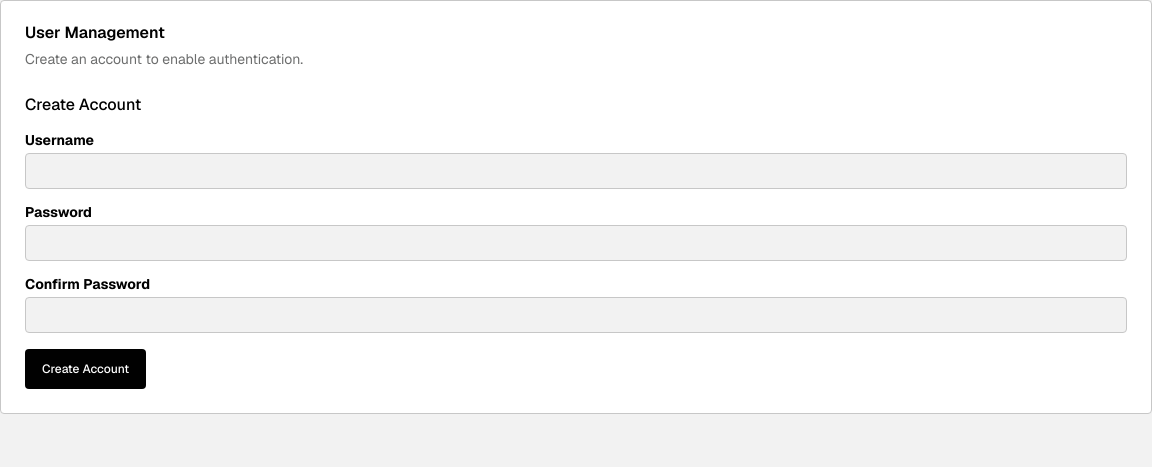
Test: UserManagementSection › no users (setup state) › shows validation error when passwords do not match
Type "admin" into the field labelled "Username" at (576, 171), box [25,153,1127,189]
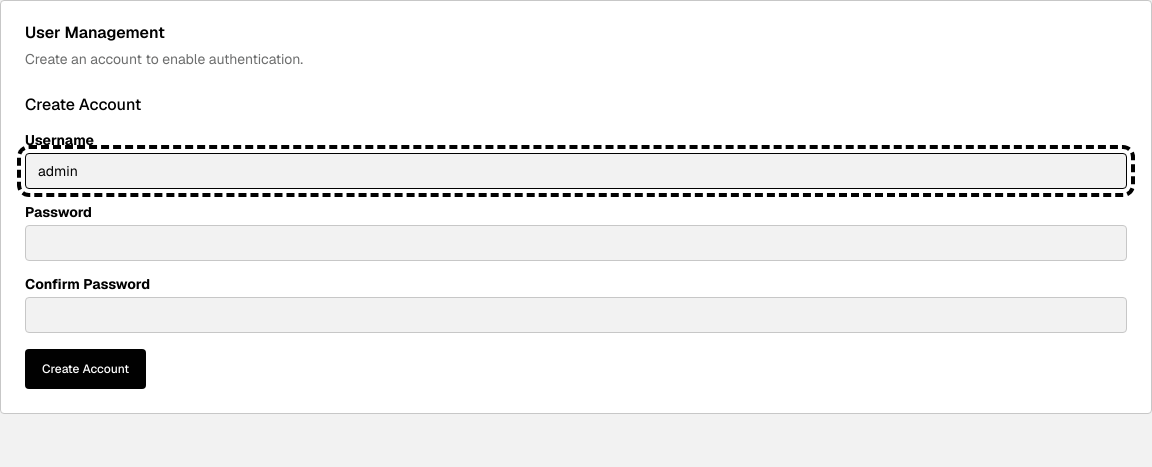
Type "password123" into the password field labelled "Password" at (576, 243), box [25,225,1127,261]
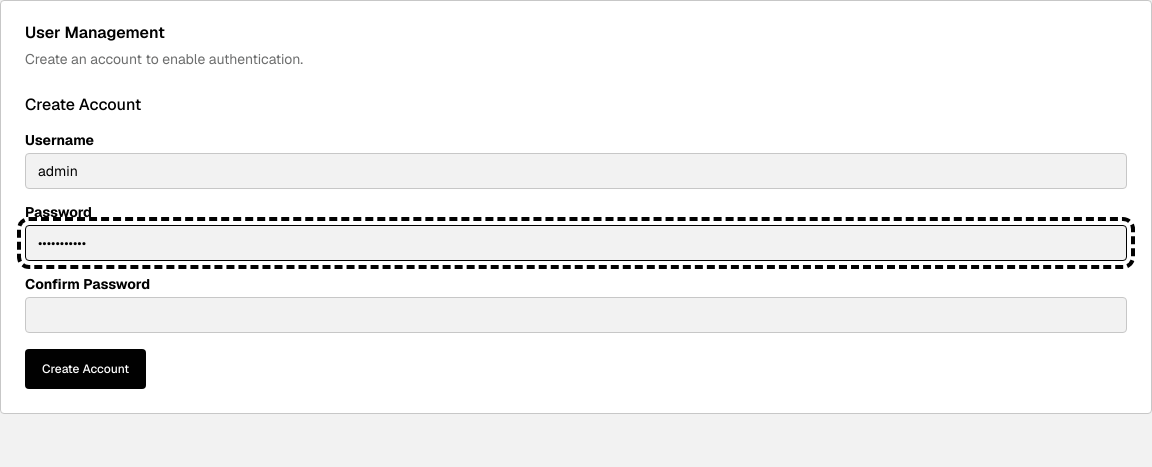
Type "different" into the password field labelled "Confirm Password" at (576, 315), box [25,297,1127,333]
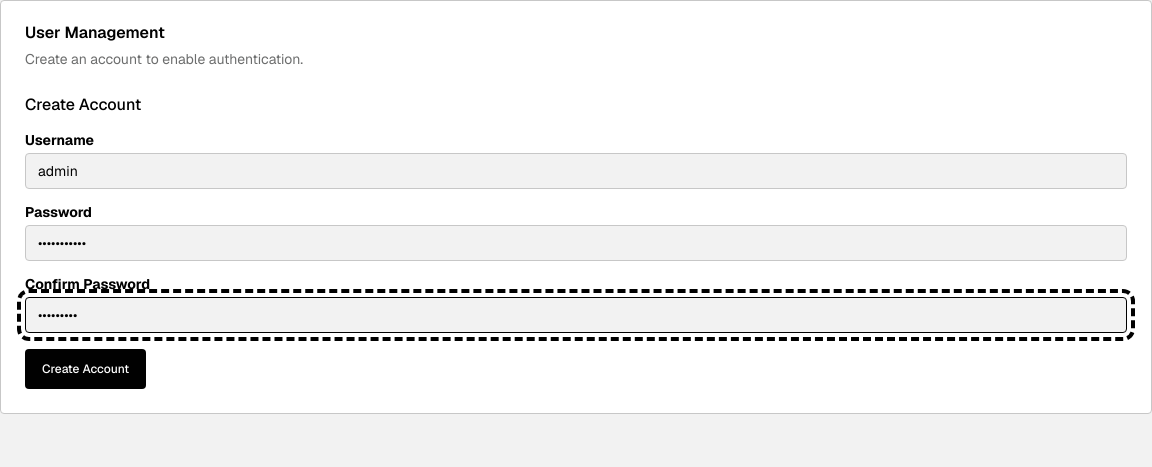
Click the button "Create Account" at (86, 369), box [25,349,146,389]
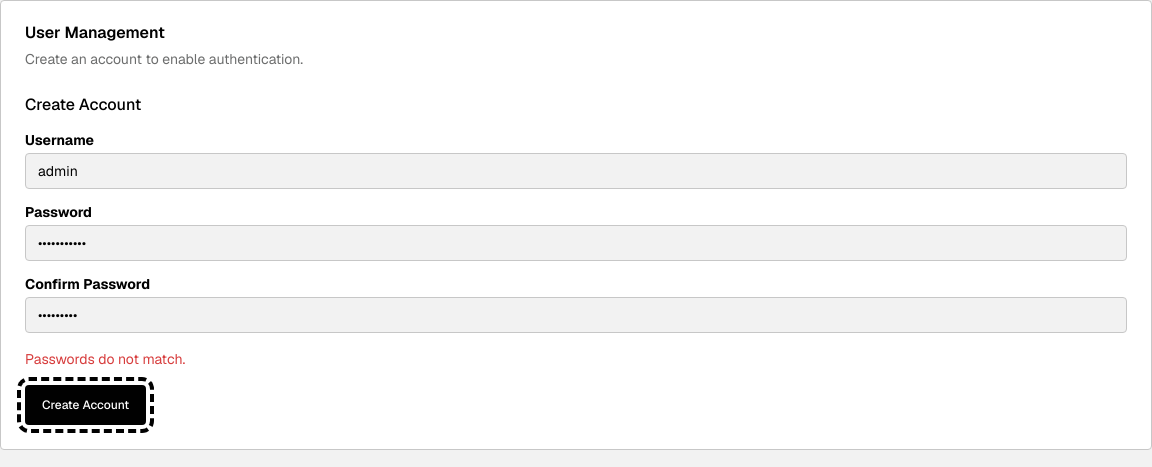
Check: the text "Passwords do not match." is shown, box [25,350,185,368]
